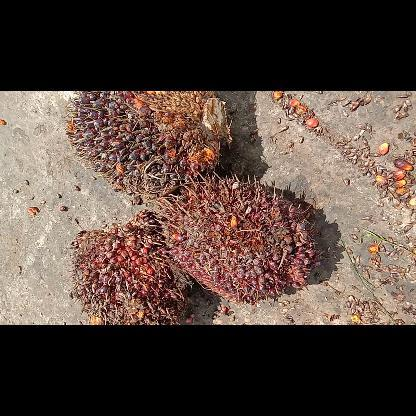Kurang masak: (68, 208, 190, 324)
TBS masak: (155, 178, 319, 306), (62, 91, 232, 201)
